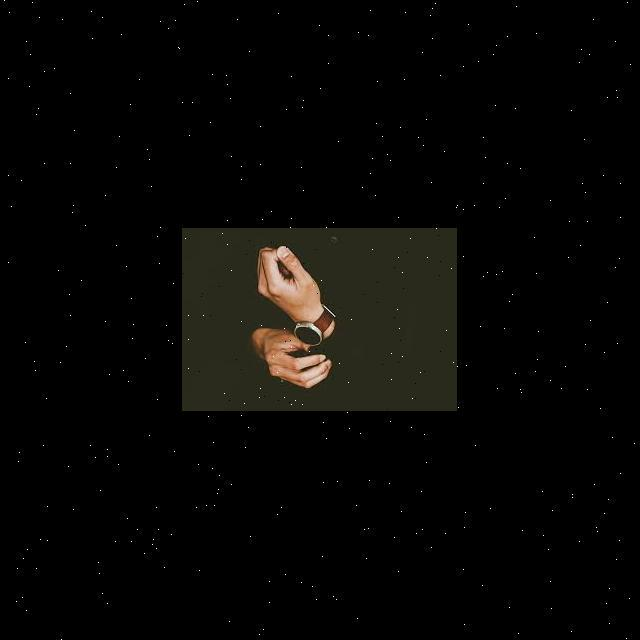watch: (293, 304, 345, 354)
